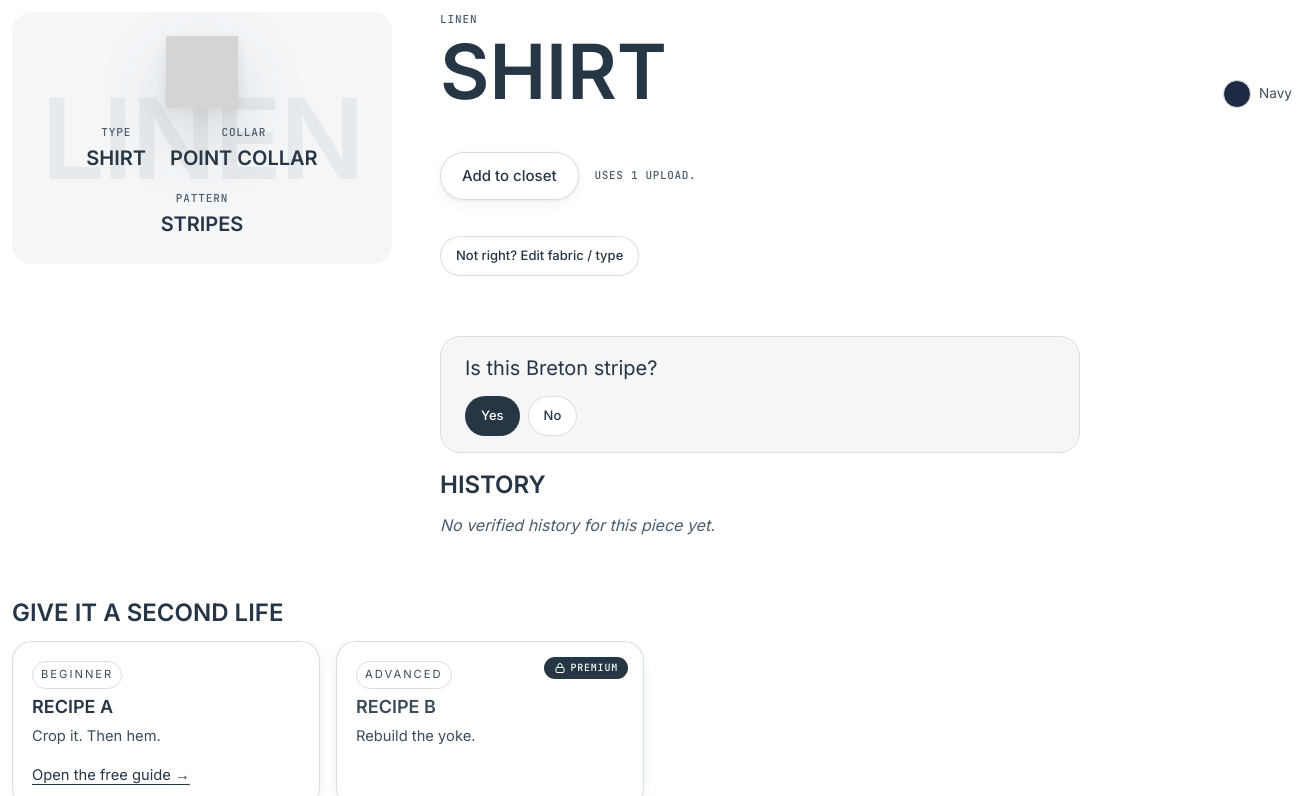
Test case: ResultView › the edit control is always available and corrects the garment type
This screenshot has width=1304, height=796.
Click the button "Not right? Edit fabric / type" at {"x": 540, "y": 256}, box [440, 236, 639, 276]
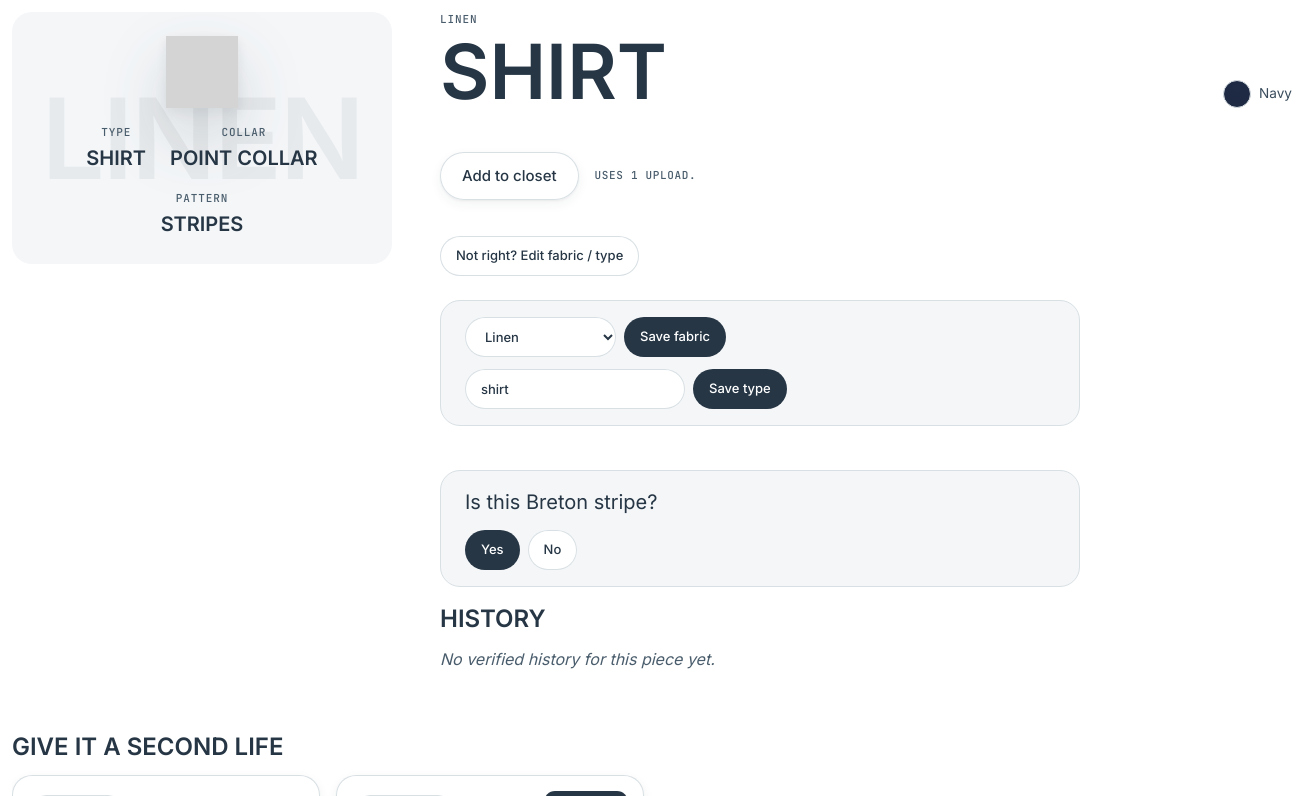
Replace the text in the field named "Garment type" with "Blouse" at {"x": 575, "y": 389}, box [465, 369, 685, 409]
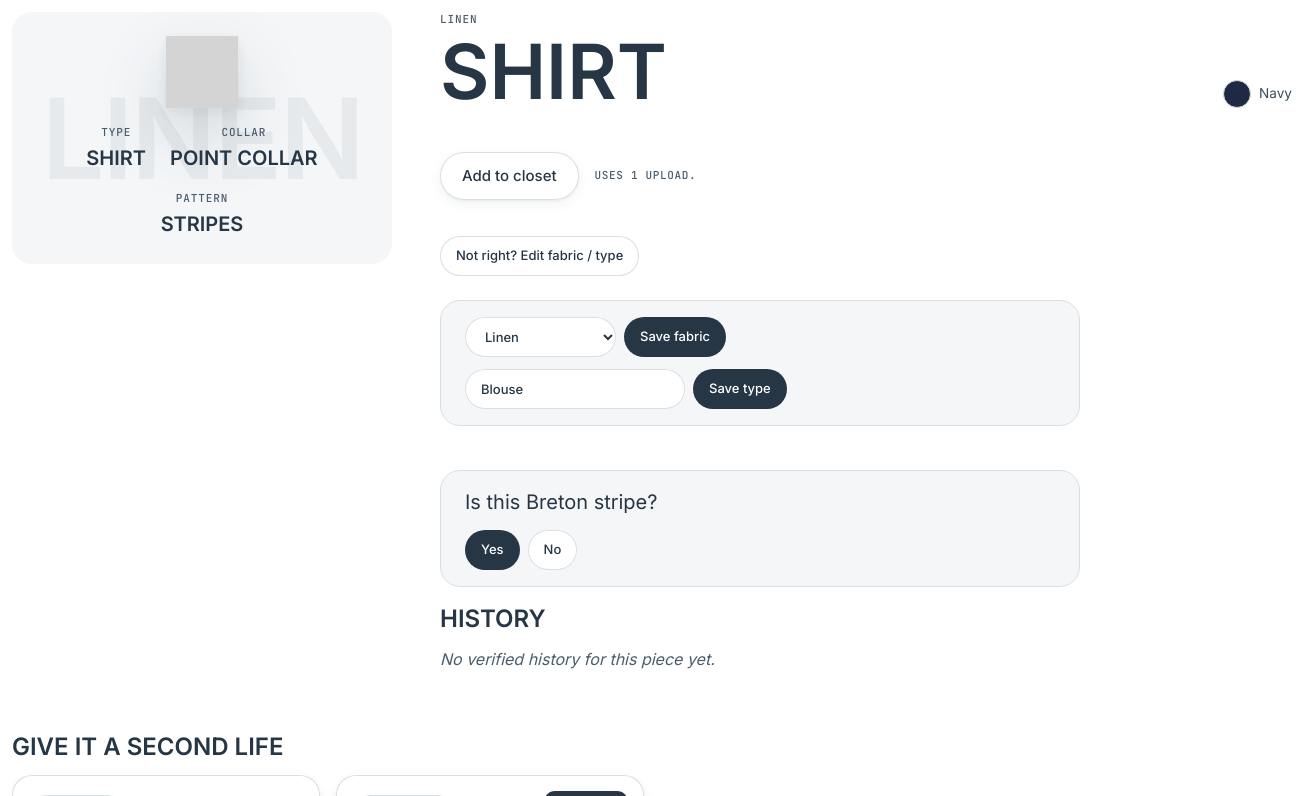
Click the button "Save type" at {"x": 740, "y": 389}, box [693, 369, 787, 409]
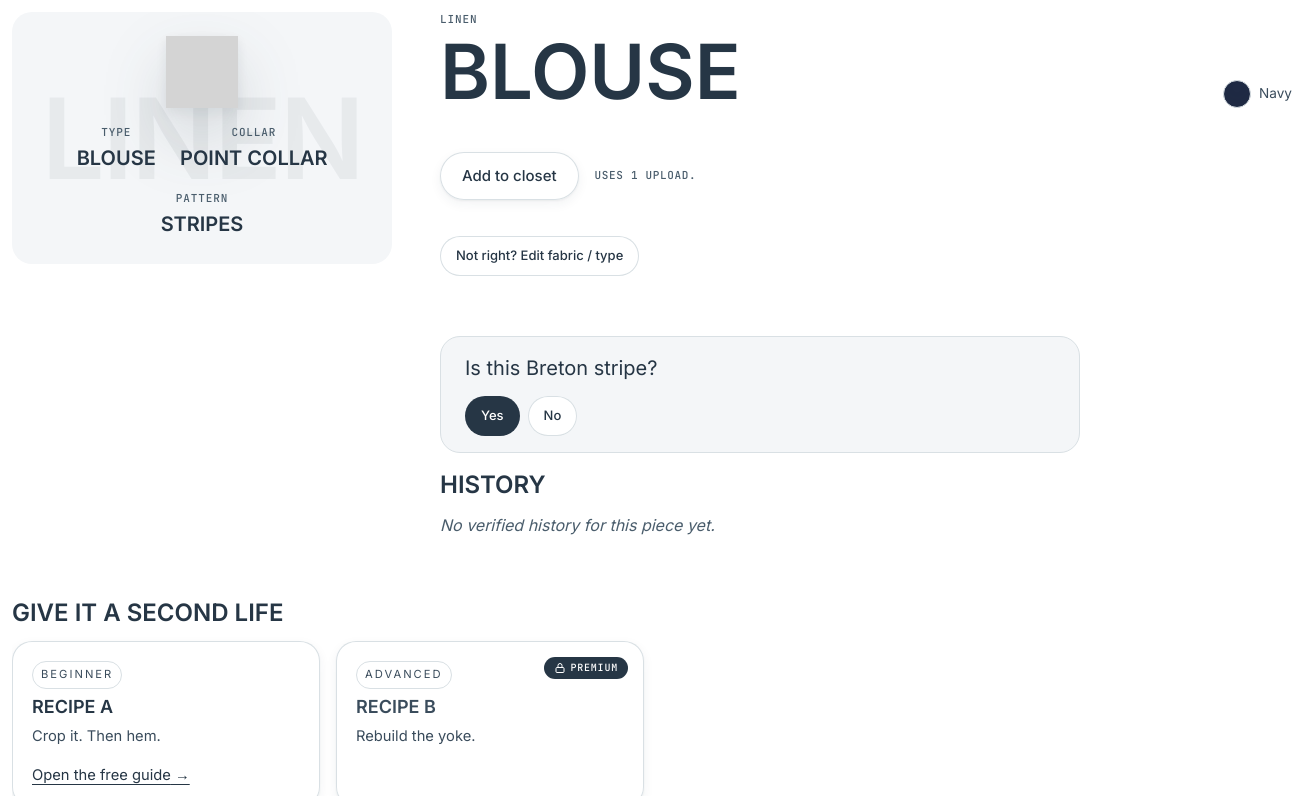
Result: the heading "Blouse" is shown at [440, 35, 741, 108]
